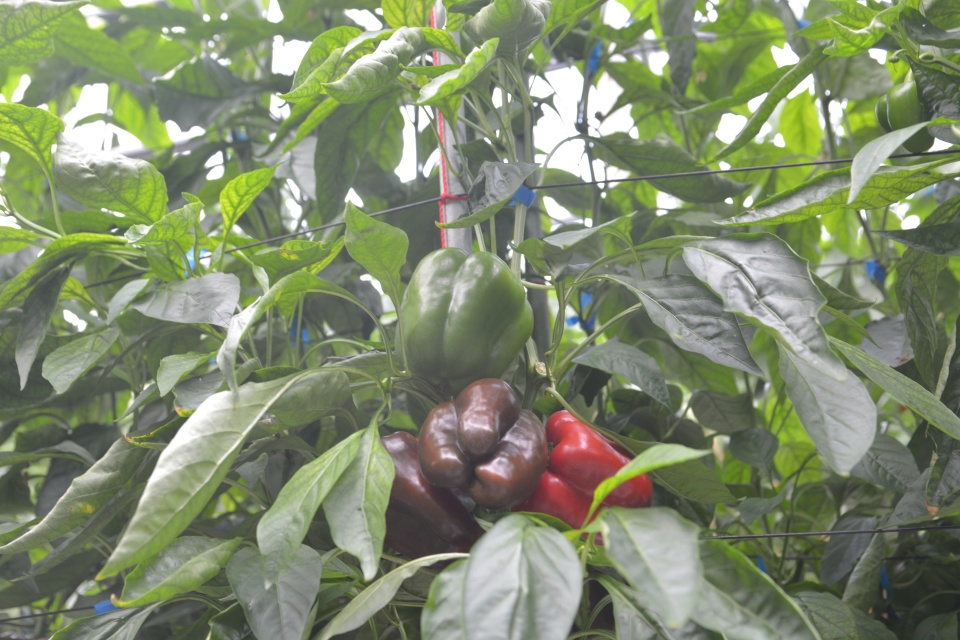fruit: (393, 243, 536, 397), (512, 407, 655, 547), (416, 376, 550, 514), (380, 429, 488, 569), (874, 80, 936, 154)
